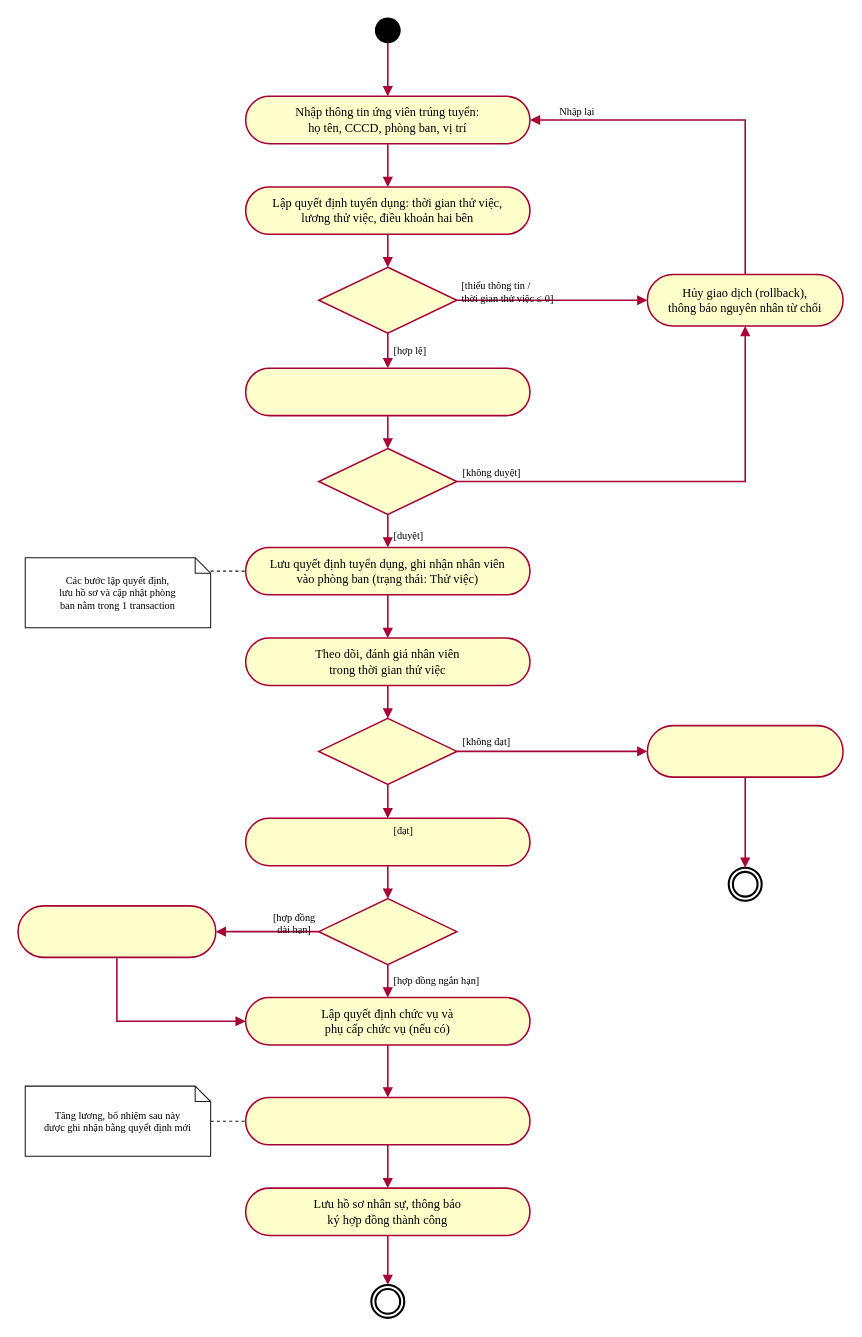
Image size: 862x1337. Some labels were removed from this diagram. Here are the shapes that lost their labels. From the top down, the box of each, then its label:
(244, 367, 530, 416): Giám đốc xem xét, ký duyệt quyết định tuyển dụng
(646, 724, 843, 777): Chấm dứt thử việc, cập nhật trạng thái nhân viên
(244, 817, 530, 866): Ký hợp đồng lao động chính thức khi hết thời gian thử việc
(17, 905, 216, 958): Lập hồ sơ BHYT, BHXH (trích trừ trong bảng lương)
(244, 1096, 530, 1145): Lập quyết định lương: lương cơ bản, phụ cấp lương, phụ cấp độc hại (nếu có)
